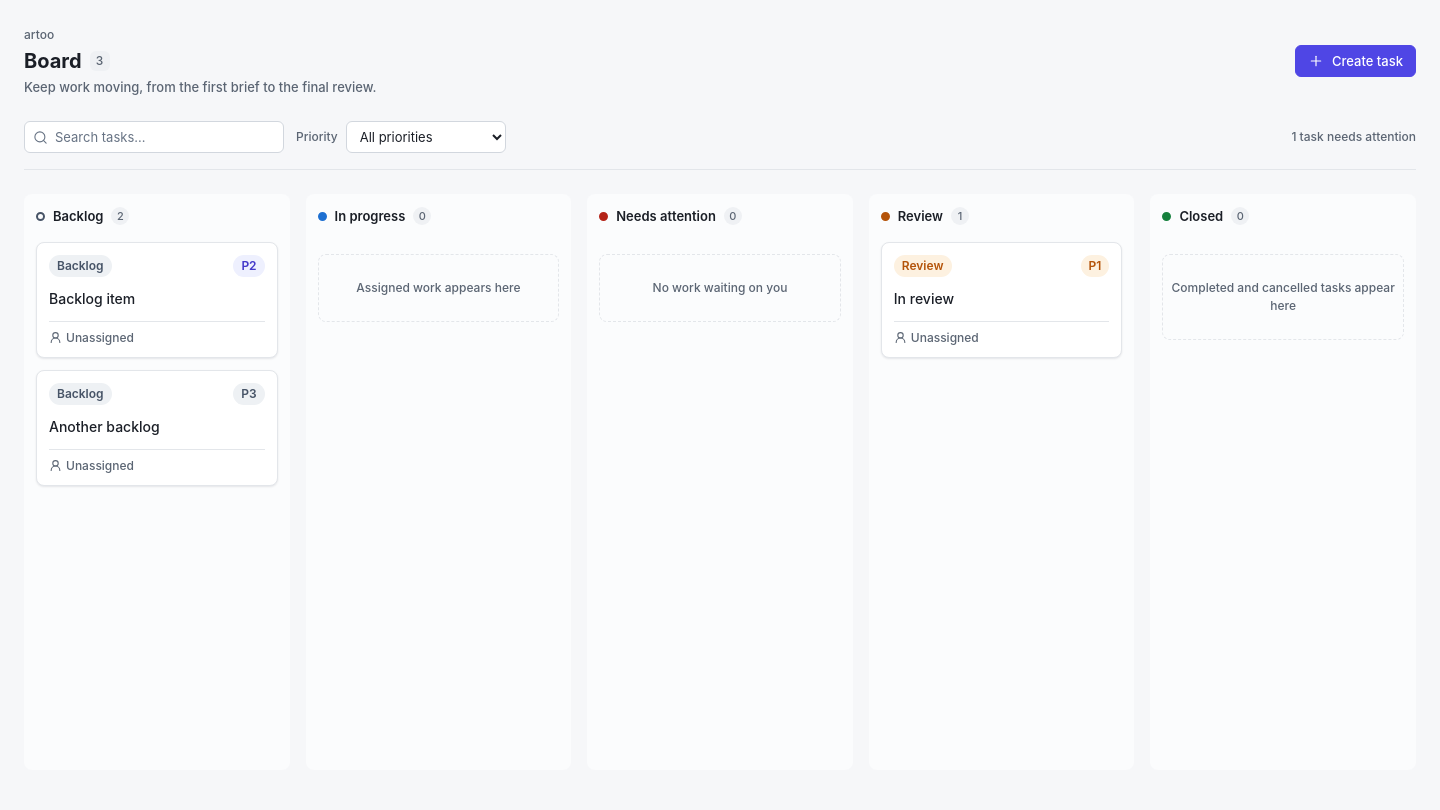
BoardView › combines search and priority and recovers from an empty result
The width and height of the screenshot is (1440, 810).
Check: the element "Backlog" is shown, box [24,194,290,770]
Step 1. Type "backlog" into the search field named "Search board" → (154, 137), box [24,121,284,153]
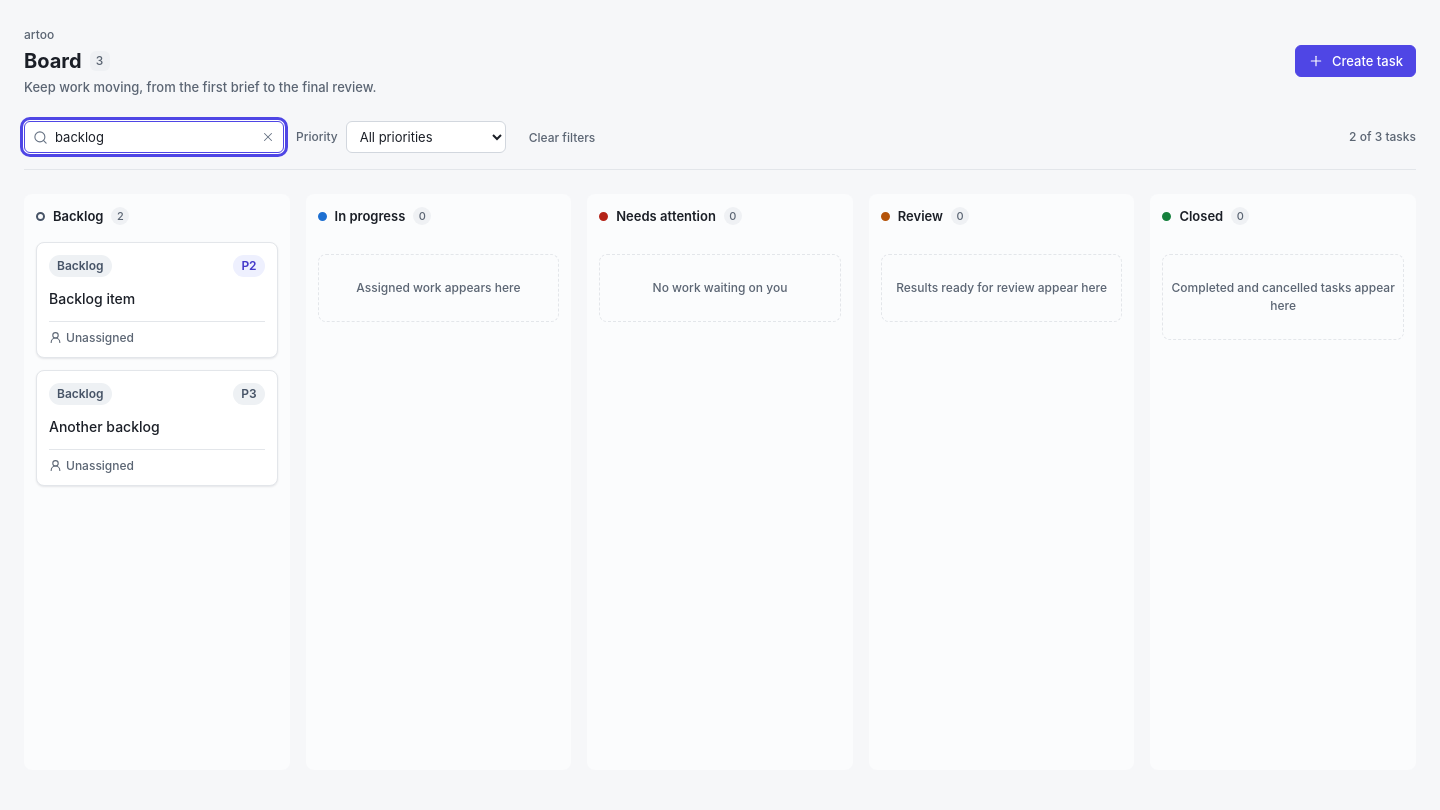
Check: the button "In review" is gone
Step 2. Select "P1 · High" in the dropdown labelled "Priority" → (426, 137), box [346,121,506,153]
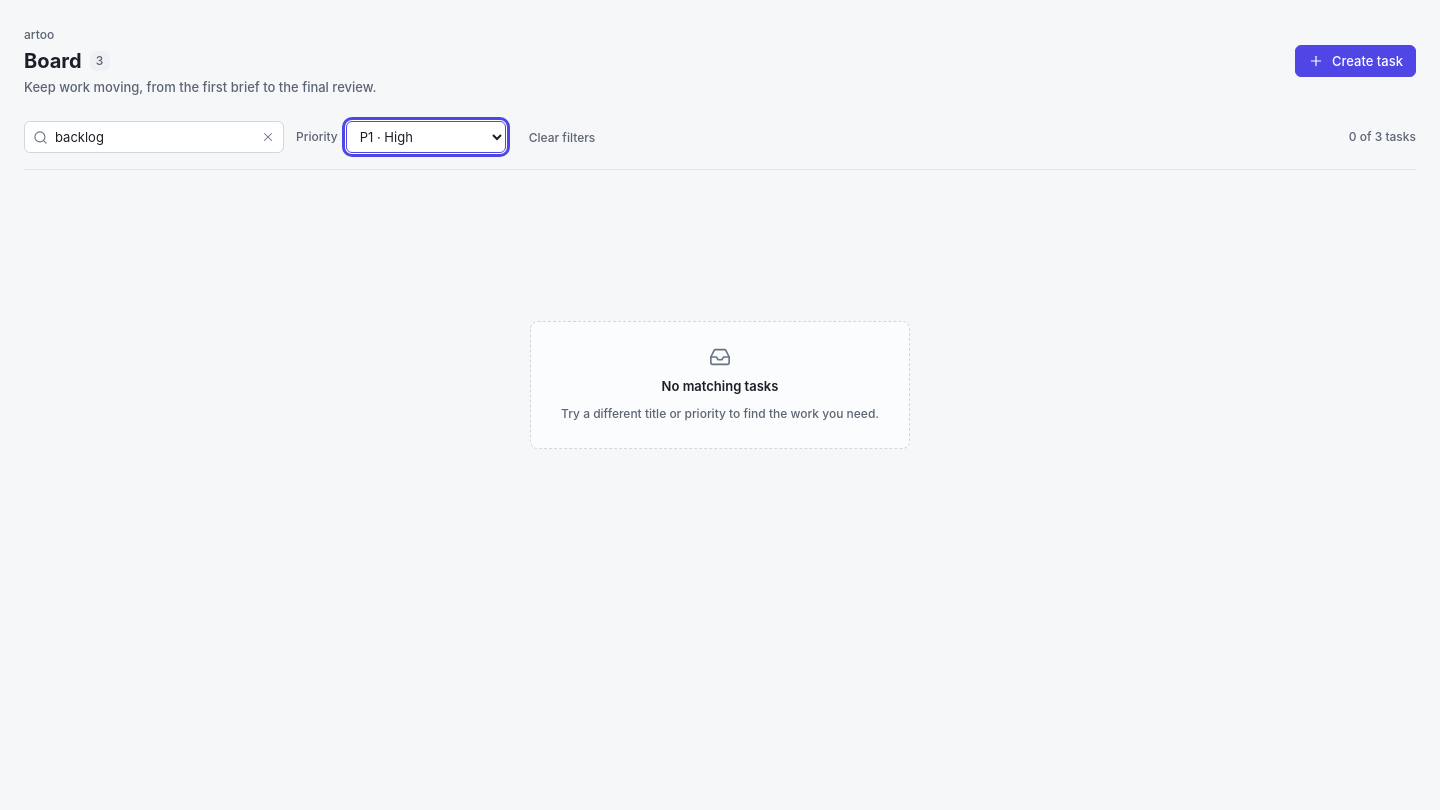
Check: the text "No matching tasks" is shown, box [662,376,778,396]
Check: the text "0 of 3 tasks" is shown, box [1349,127,1416,147]
Step 3. Click the button "Clear filters" → (562, 137), box [518,124,606,150]
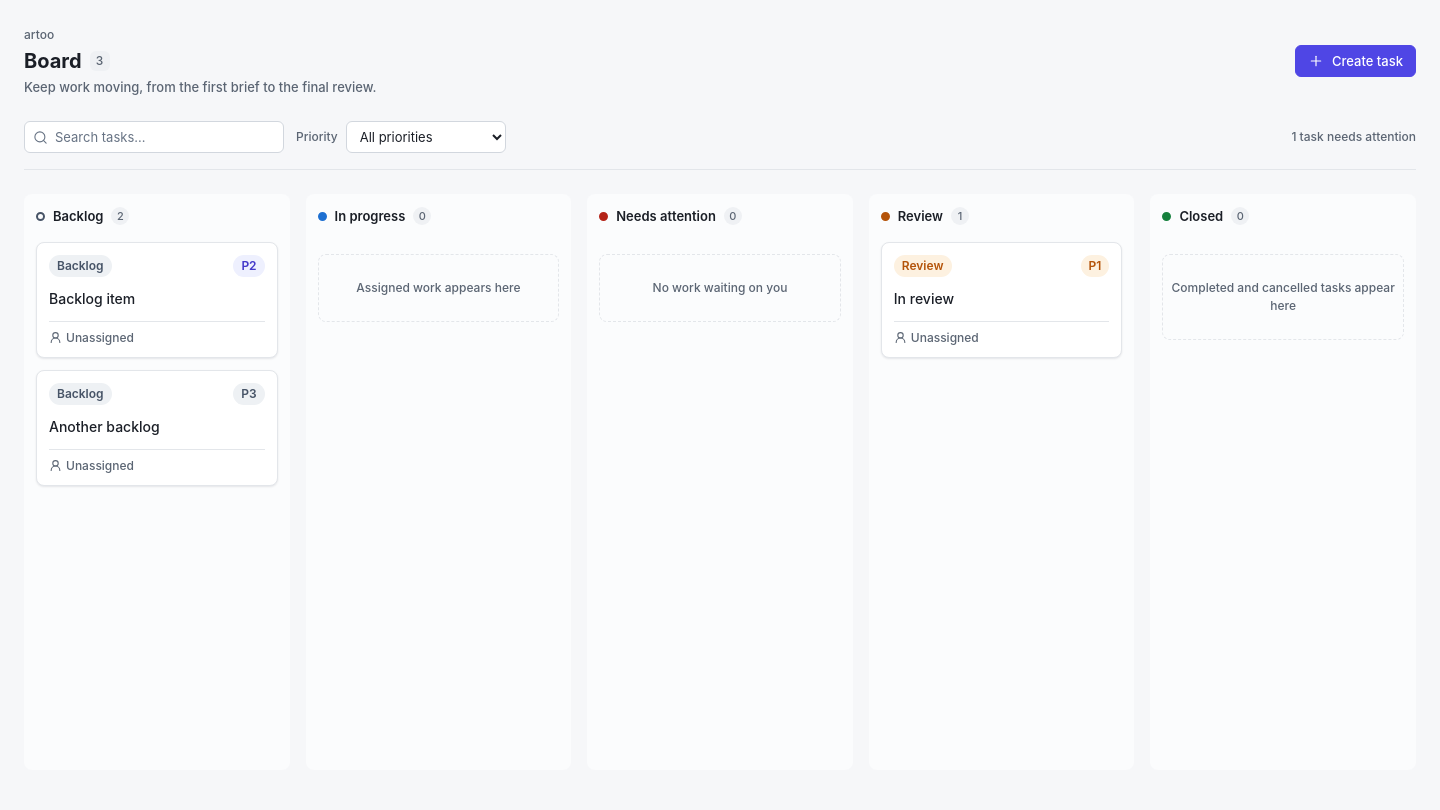
Check: the text "In review" is shown, box [894,290,954,307]
Check: the text "Another backlog" is shown, box [49,418,160,435]
